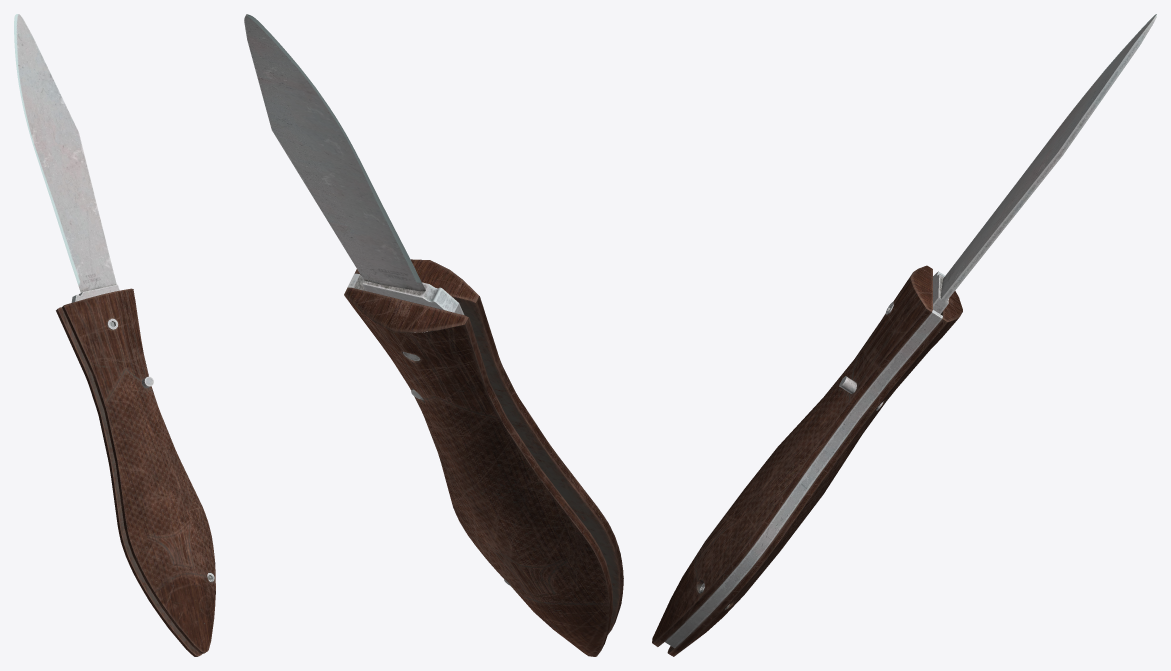
The model's file is knife_ph.glb.
The picture shows the model from 3 angles, left to right: view 1: azimuth 30°, elevation 25°; view 2: azimuth 150°, elevation 25°; view 3: azimuth 270°, elevation 25°; orthographic projection. The views are drawn at different scales.
Visible parts, largest first — view 1: fish_knife_handle, fish_knife_blade; view 2: fish_knife_handle, fish_knife_blade; view 3: fish_knife_handle, fish_knife_blade.
Boxes of the visible parts, x1,y1,x2,y2 form: fish_knife_handle: [56, 288, 215, 656]; fish_knife_blade: [14, 14, 119, 302]; fish_knife_handle: [344, 259, 623, 656]; fish_knife_blade: [244, 14, 464, 314]; fish_knife_handle: [652, 265, 962, 656]; fish_knife_blade: [933, 14, 1156, 314].
Size of the model in its own units: 0.0436 by 0.2678 by 0.1896.
Materials: 1 (1 with a texture image).
